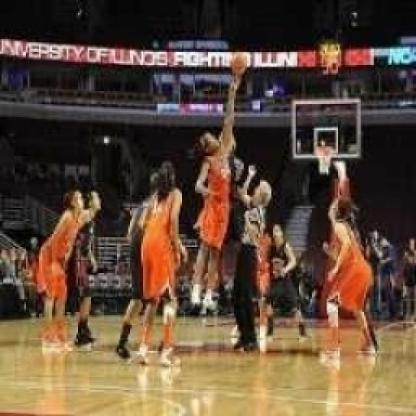basketball: (230, 50, 247, 74)
